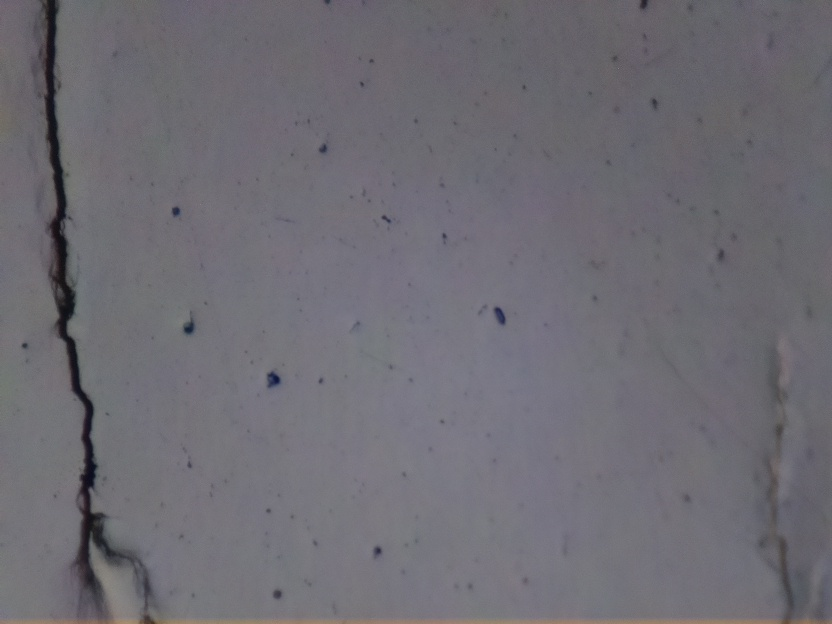crack: (36, 0, 158, 615)
